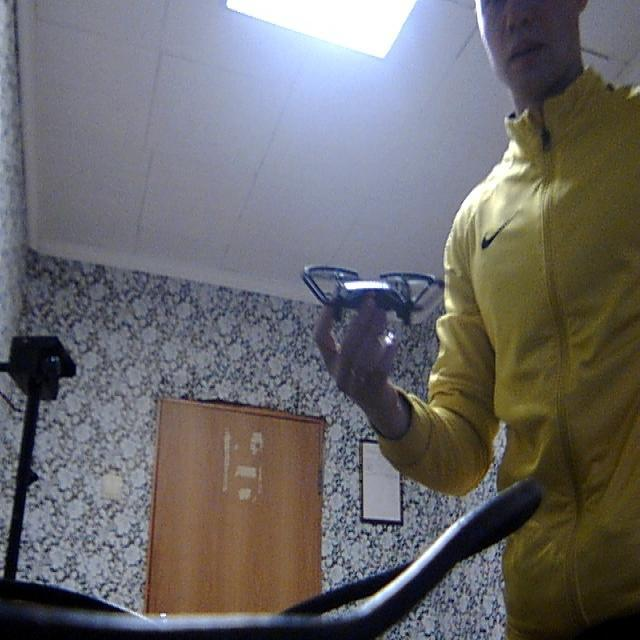drone: (295, 230, 457, 341)
